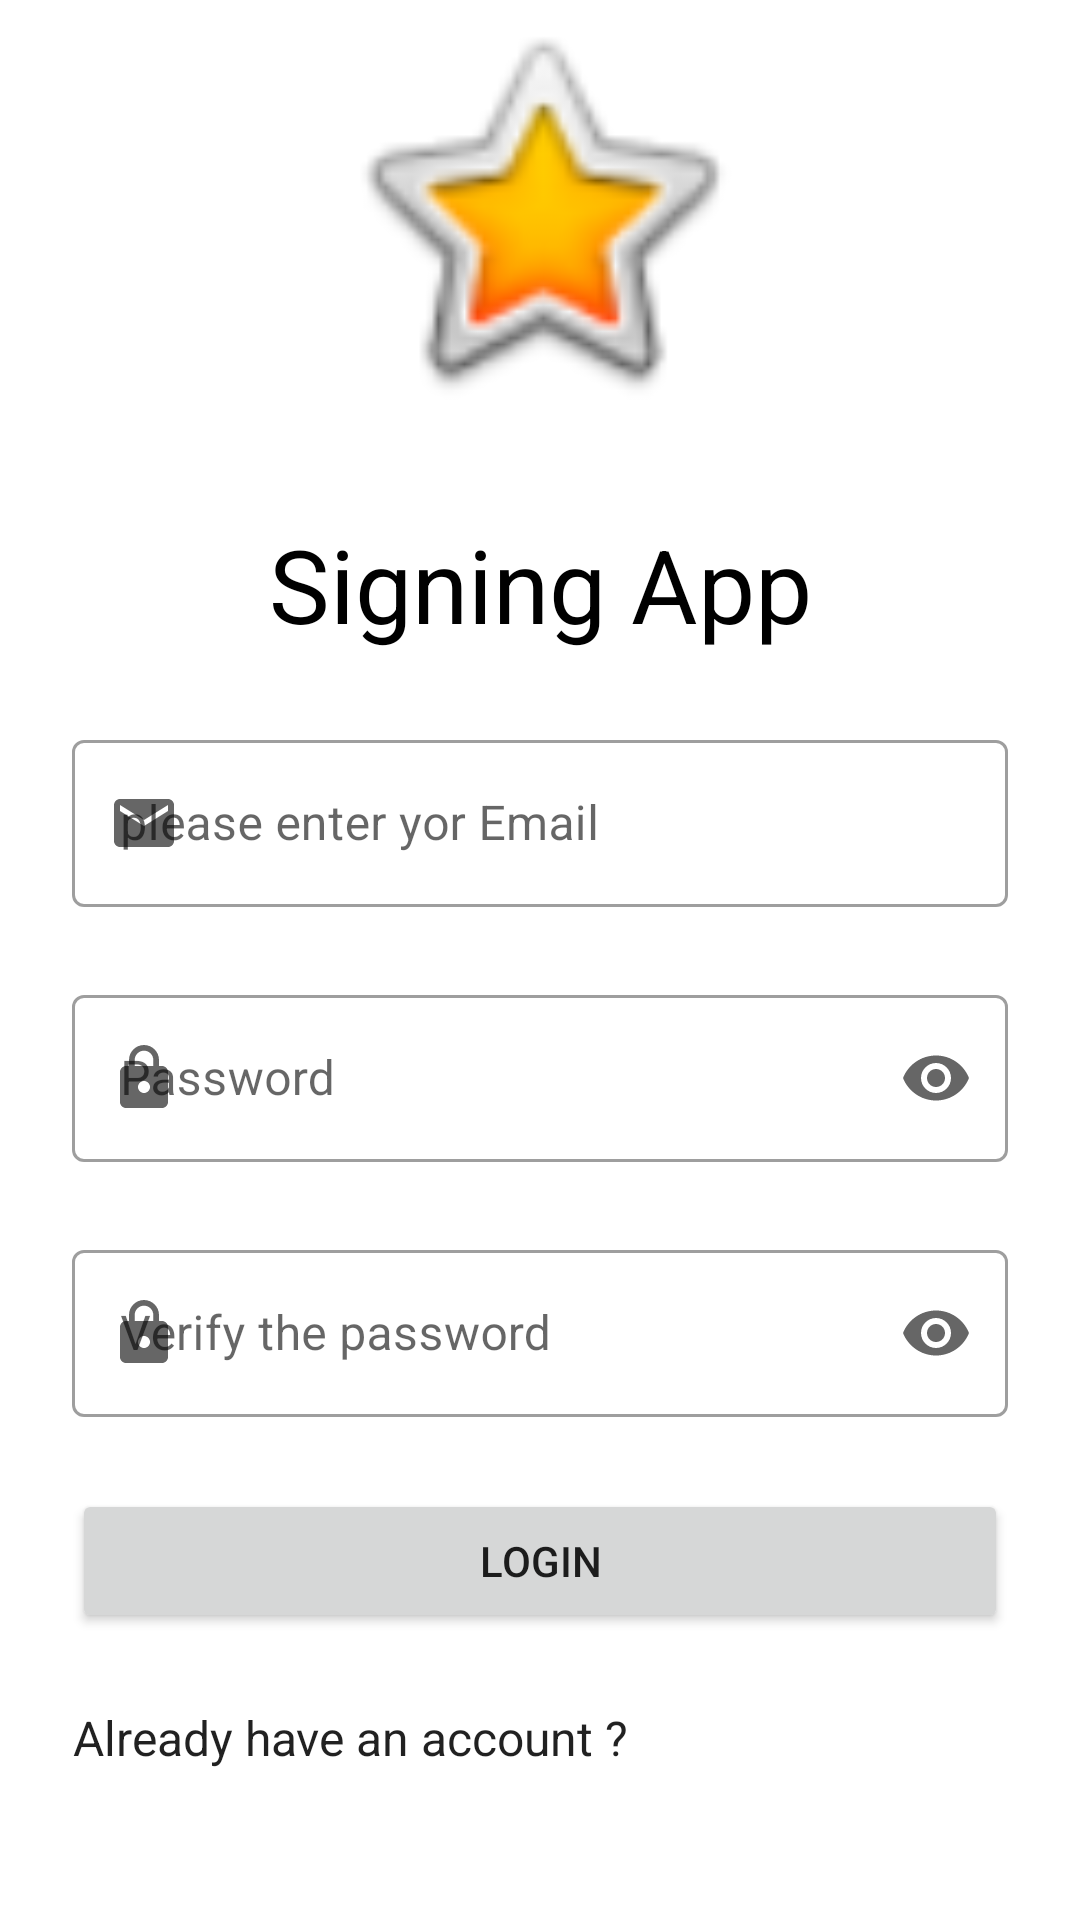

Screen size 1080×1920. Icon name, then its box in pixels as (x1, y1, x2, y2):
star on: (368, 42, 719, 384)
